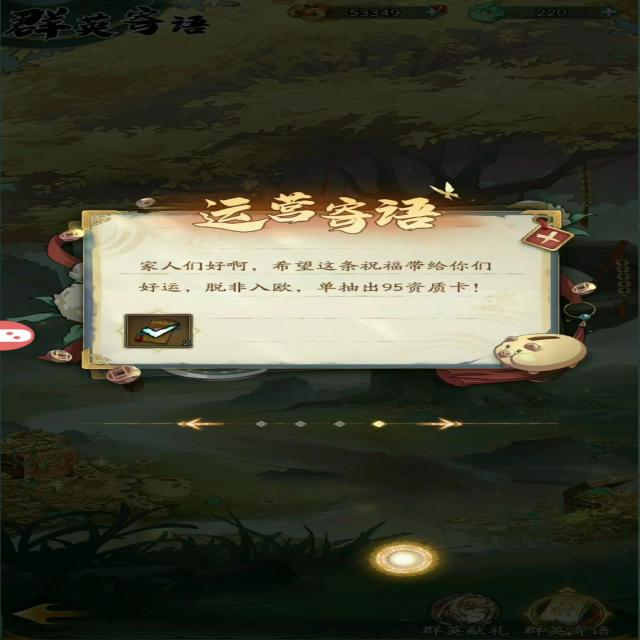operation-close: (516, 221, 582, 254)
operation-confirm-off: (110, 305, 210, 354)
operation-enter: (148, 410, 227, 435), (421, 407, 482, 439)
